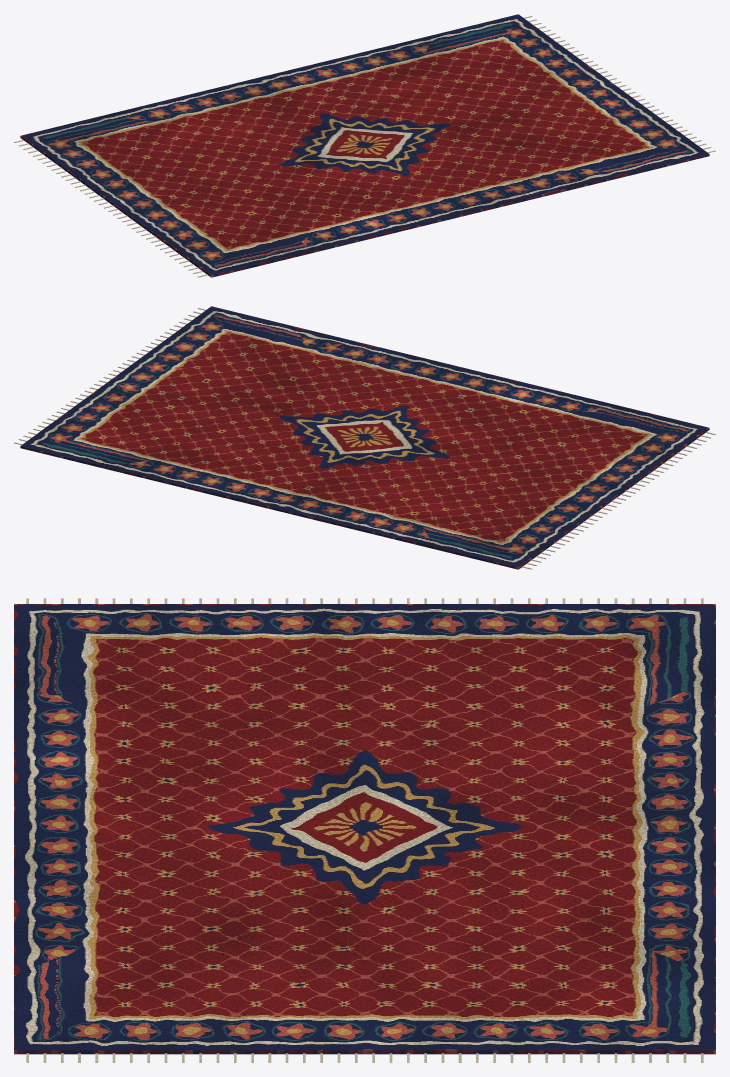
The model's file is h_rug1.glb.
3 renders of one model, top to bottom at view 1: azimuth 30°, elevation 25°; view 2: azimuth 150°, elevation 25°; view 3: azimuth 270°, elevation 25°, orthographic. The views are drawn at different scales.
Parts seen in each view (by area): view 1: rug; view 2: rug; view 3: rug.
Boxes of the visible parts, x1,y1,x2,y2 form: rug: (20,14,709,277); rug: (20,306,709,569); rug: (14,604,715,1054).
Bounding box in the file's own units: 2.85 × 0.0106 × 1.82.
2 materials, 2 textured.
